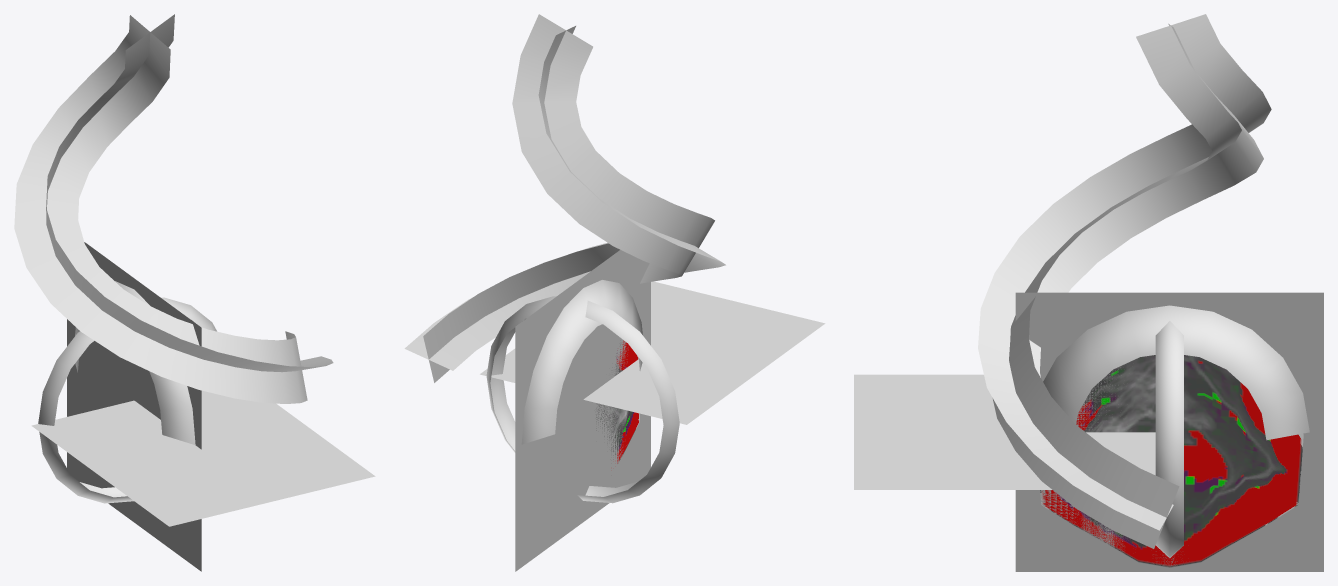
The model's file is E_guanyuskill.FBX.
The picture shows the model from 3 angles, left to right: view 1: azimuth 30°, elevation 25°; view 2: azimuth 150°, elevation 25°; view 3: azimuth 270°, elevation 25°; orthographic projection. The views are drawn at different scales.
Visible parts, largest first — view 1: Plane001, Plane005, Plane003, Tube002, Plane002, Tube001; view 2: Plane001, Plane003, Plane005, Tube002, Tube001, Plane004; view 3: Plane001, Plane003, Plane004, Plane005, Tube001, Tube002, Plane002.
Part boxes in pixels (<box>): Plane001: <box>14,14,333,403</box>; Plane005: <box>31,390,375,526</box>; Plane003: <box>67,242,201,571</box>; Tube002: <box>38,297,216,503</box>; Plane002: <box>115,400,283,506</box>; Tube001: <box>75,281,195,445</box>; Plane001: <box>404,14,725,382</box>; Plane003: <box>515,250,650,571</box>; Plane005: <box>480,281,825,424</box>; Tube002: <box>486,296,679,503</box>; Tube001: <box>521,280,642,444</box>; Plane004: <box>596,340,639,463</box>; Plane001: <box>978,14,1271,548</box>; Plane003: <box>1015,292,1323,571</box>; Plane004: <box>1040,355,1303,567</box>; Plane005: <box>854,374,1155,489</box>; Tube001: <box>1043,305,1309,440</box>; Tube002: <box>1155,321,1183,557</box>; Plane002: <box>854,421,1155,443</box>.
Size of the model in its own units: 382 by 610 by 458.
